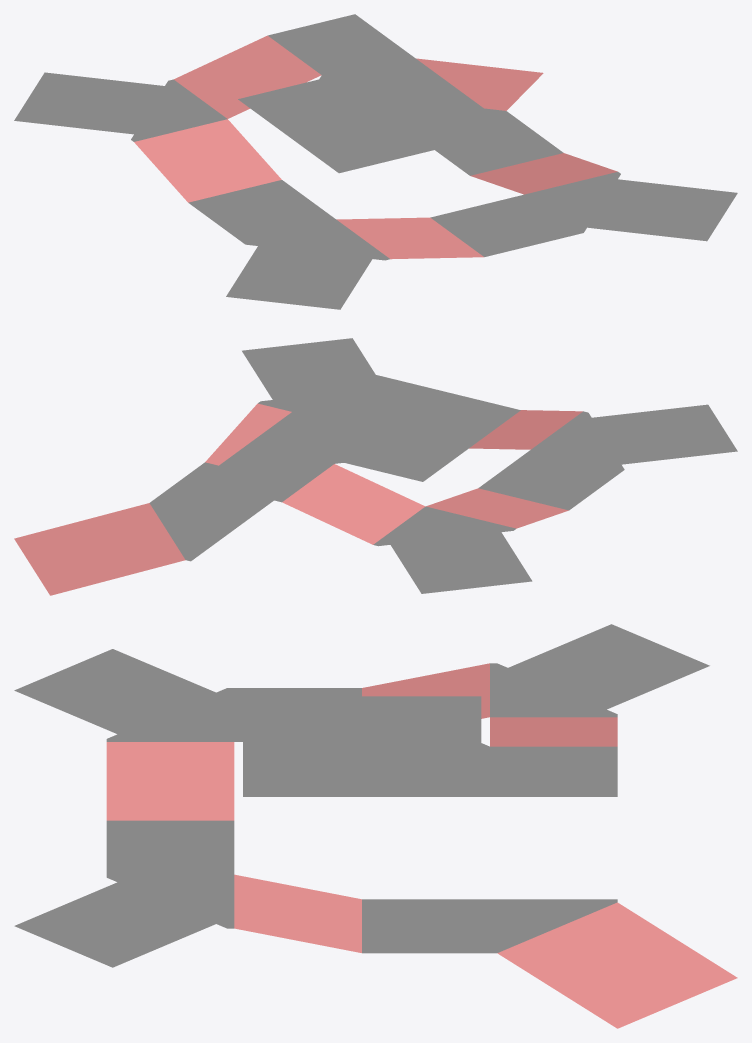
Rendered from L2fortress_02_s__fort02_engin_stair.gltf.
3 renders of one model, top to bottom at view 1: azimuth 30°, elevation 25°; view 2: azimuth 150°, elevation 25°; view 3: azimuth 270°, elevation 25°, orthographic. The views are drawn at different scales.
Visible parts, largest first — view 1: fort02_engin_stair; view 2: fort02_engin_stair; view 3: fort02_engin_stair.
Boxes of the visible parts, bbox=[...] form: fort02_engin_stair: bbox=[14, 14, 737, 309]; fort02_engin_stair: bbox=[14, 338, 737, 595]; fort02_engin_stair: bbox=[14, 624, 737, 1028].
Size of the model in its own units: 8.5 by 1.6 by 8.5.
